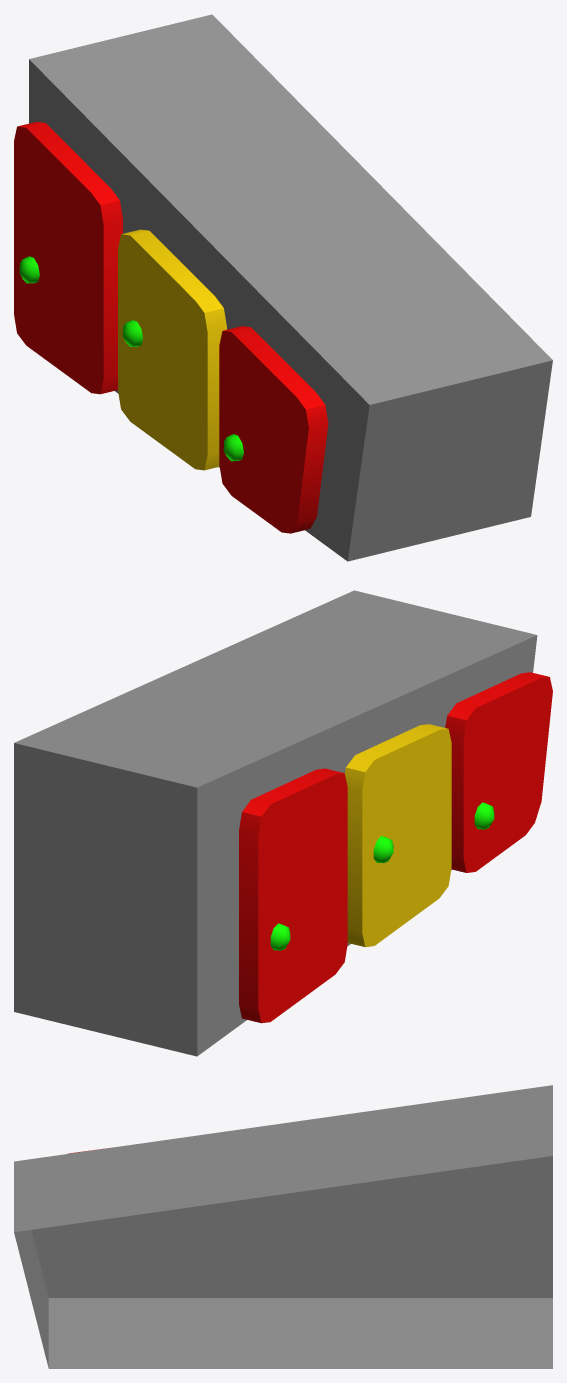
File: comptoir_top.FBX
The picture shows the model from 3 angles, top to bottom: view 1: azimuth 30°, elevation 25°; view 2: azimuth 150°, elevation 25°; view 3: azimuth 270°, elevation 25°; orthographic projection. The views are drawn at different scales.
Visible parts, largest first — view 1: Box022; view 2: Box022; view 3: Box022.
Part boxes in pixels (bbox=[...]): Box022: bbox=[14, 14, 552, 561]; Box022: bbox=[14, 590, 552, 1056]; Box022: bbox=[14, 1085, 552, 1368].
Size of the model in its own units: 42.86 by 46.96 by 108.
